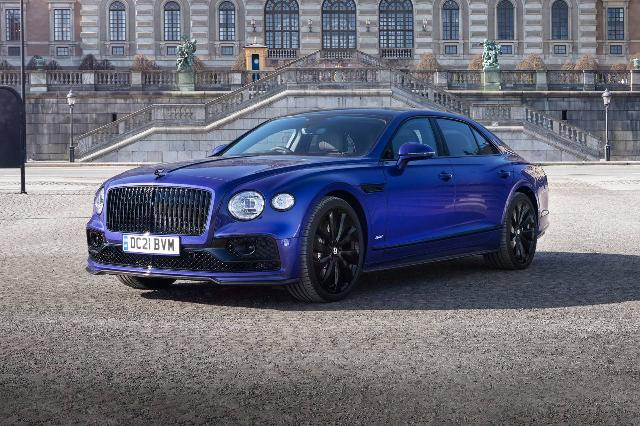bentley: (85, 108, 551, 304)
